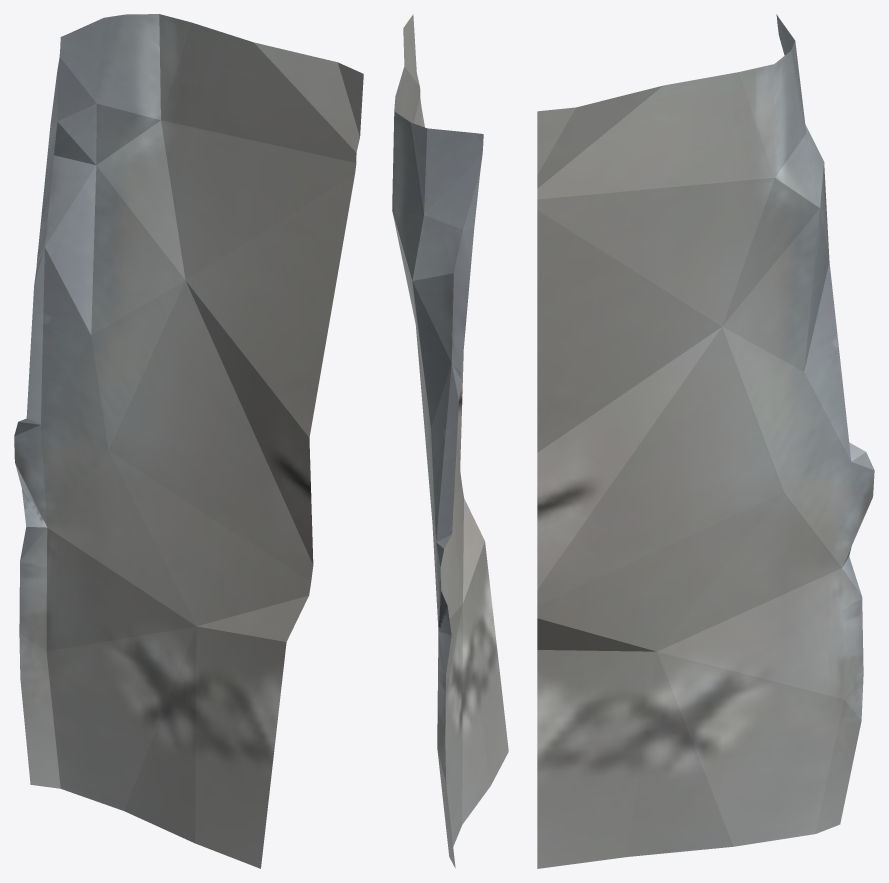
The picture shows the model from 3 angles, left to right: view 1: azimuth 30°, elevation 25°; view 2: azimuth 150°, elevation 25°; view 3: azimuth 270°, elevation 25°; orthographic projection. The views are drawn at different scales.
Bounding box in the file's own units: 0.2156 × 0.8373 × 0.3158.
1 material, 1 textured.
